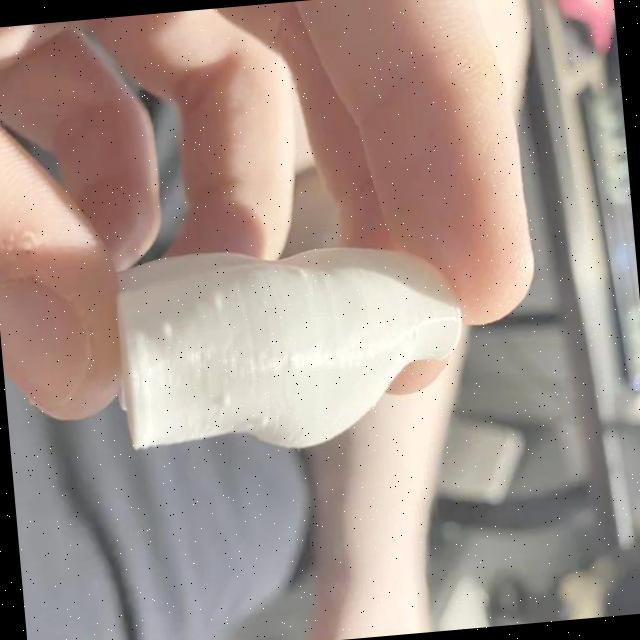blobs: (154, 320, 180, 348), (205, 290, 233, 314), (214, 387, 236, 412), (284, 352, 305, 372), (255, 411, 274, 433), (295, 266, 312, 288)
